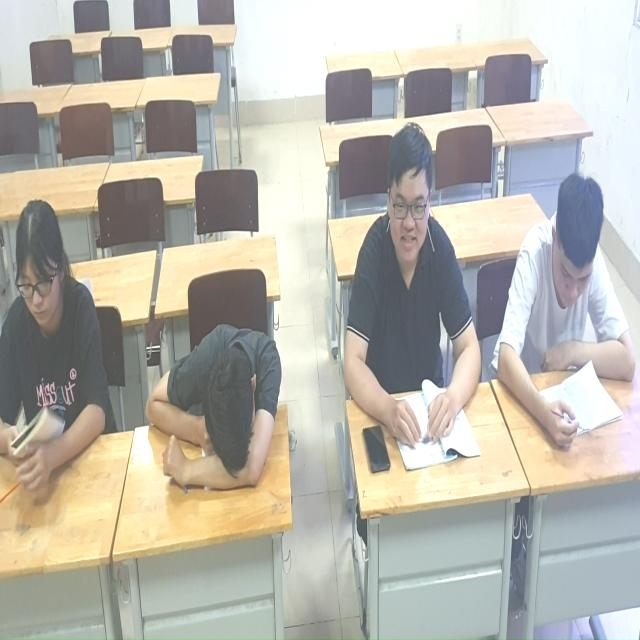read: (336, 125, 491, 472), (486, 156, 635, 438), (1, 204, 128, 502)
sleep: (144, 293, 294, 522)
